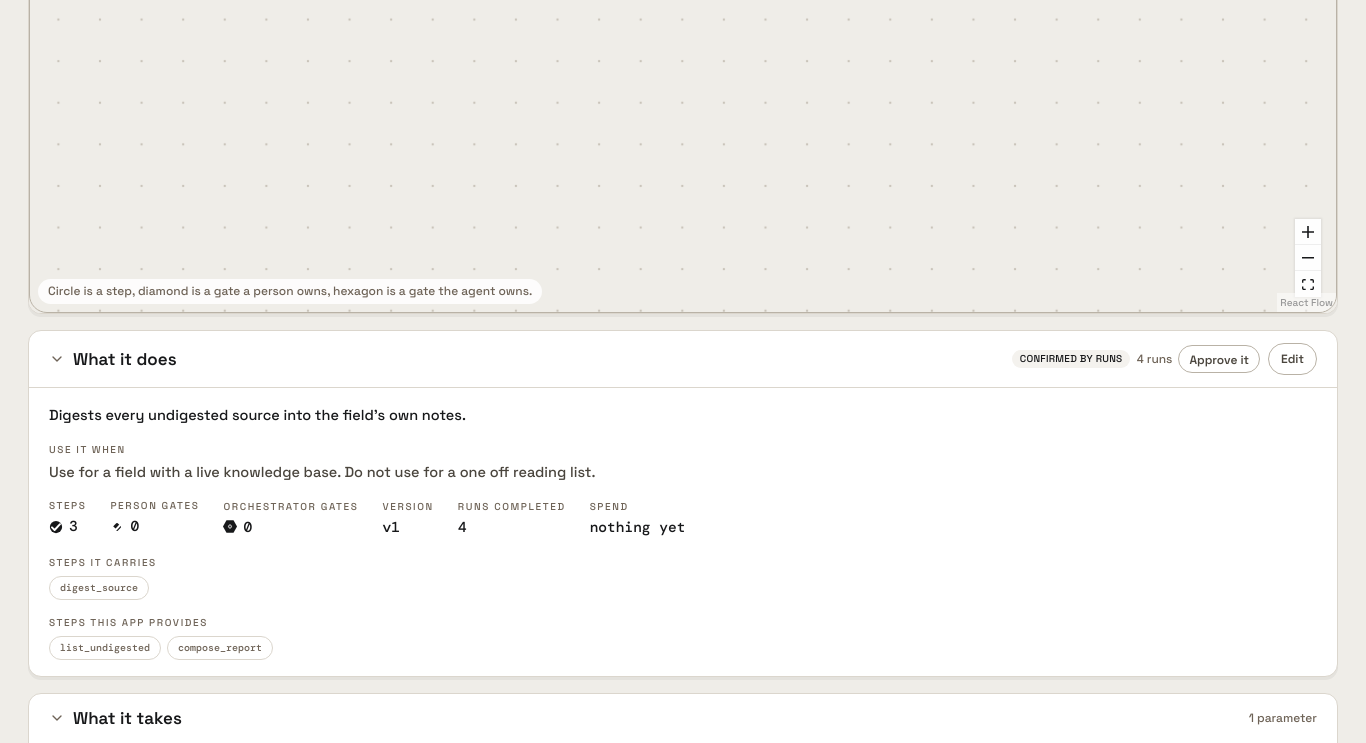
Scenario: WorkflowAbout › edits the card's own words in place through the PATCH route
(page scrolled)
Click the button "Edit".
click(1292, 359)  # box [1268, 343, 1317, 375]
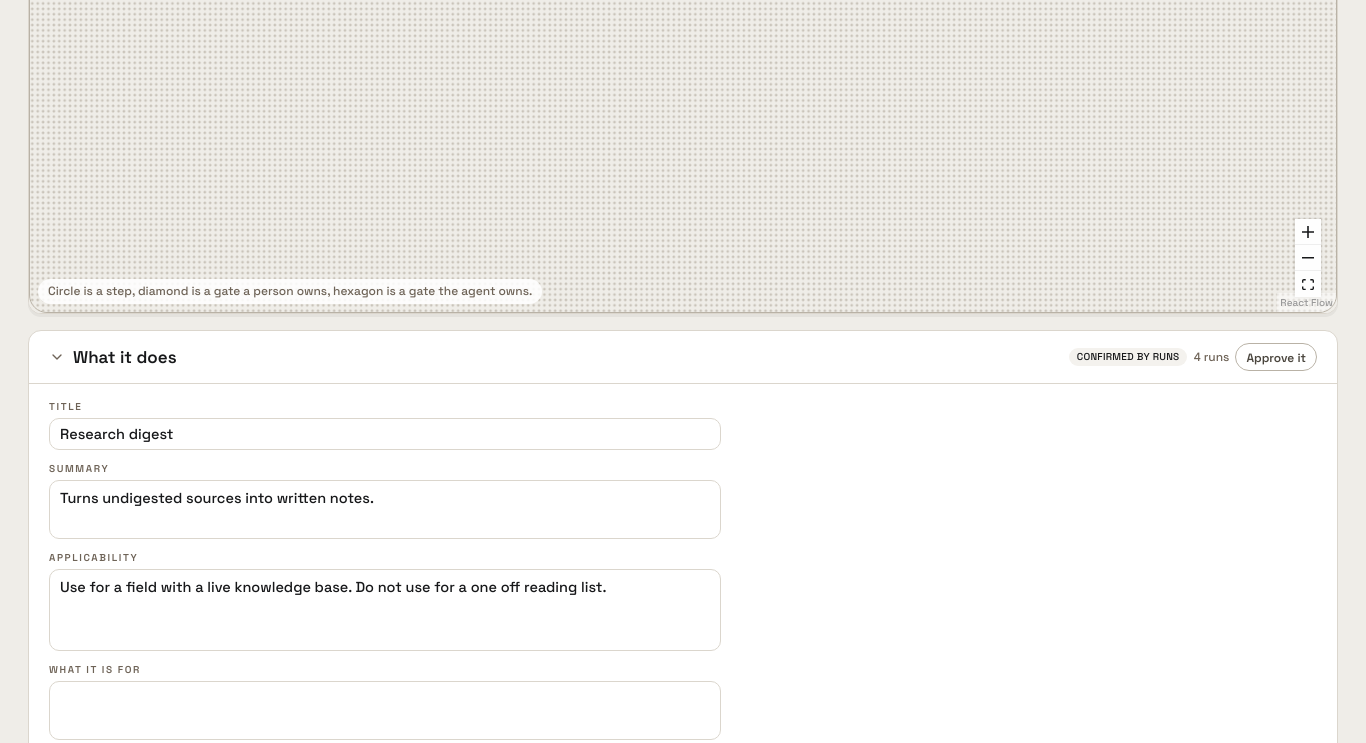
Replace the text in the field named "Title" with "Digest new sources" at (385, 434), box [49, 418, 721, 450]
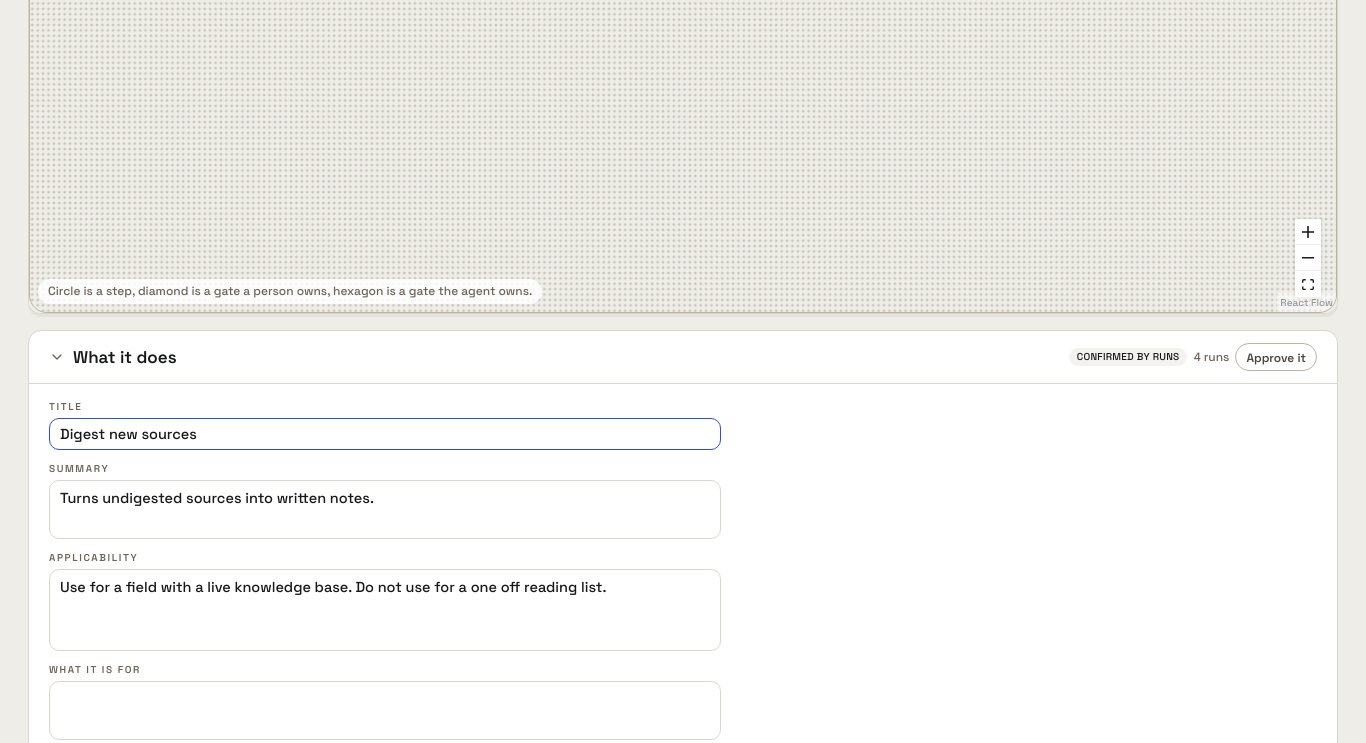
Replace the text in the text box named "Summary" with "Reads every new source and writes a short digest of each." at (385, 510), box [49, 480, 721, 539]
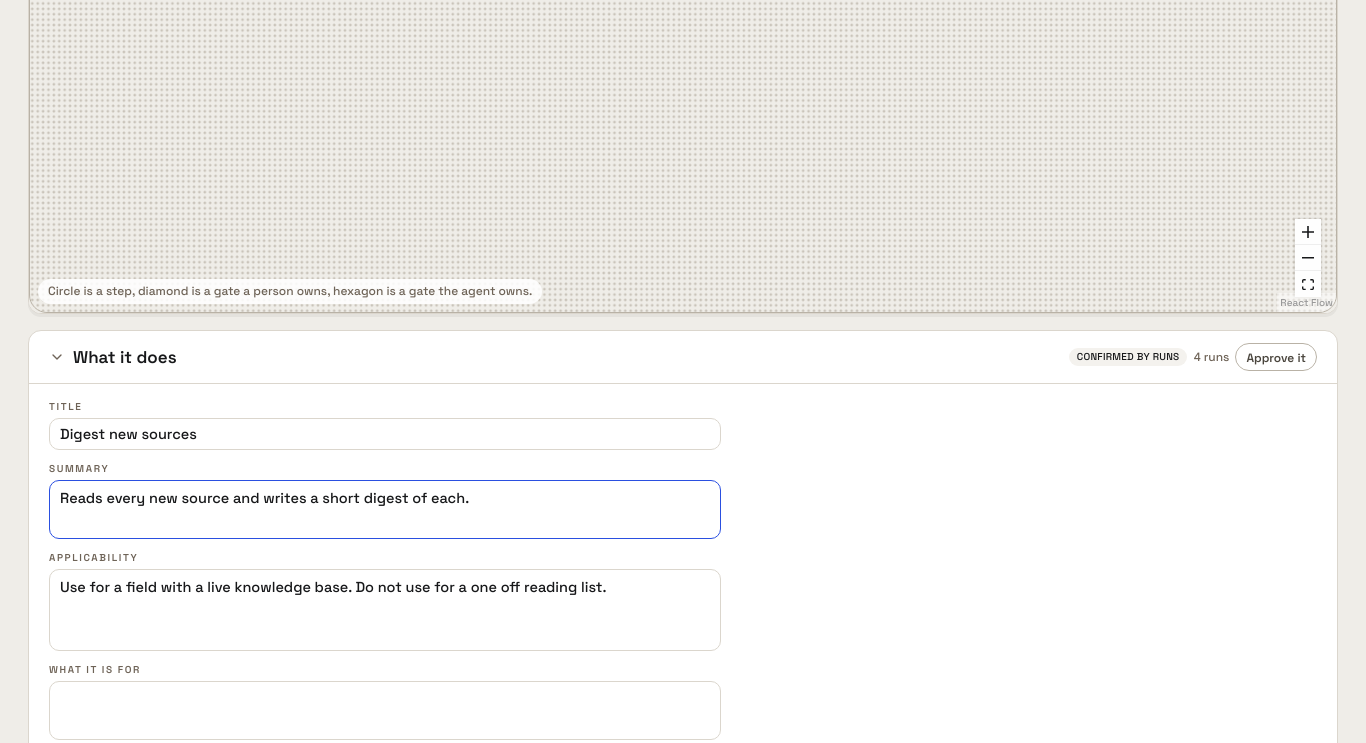
Replace the text in the text box named "Applicability" with "Run it on a schedule, once per knowledge base." at (385, 610), box [49, 569, 721, 651]
(page scrolled)
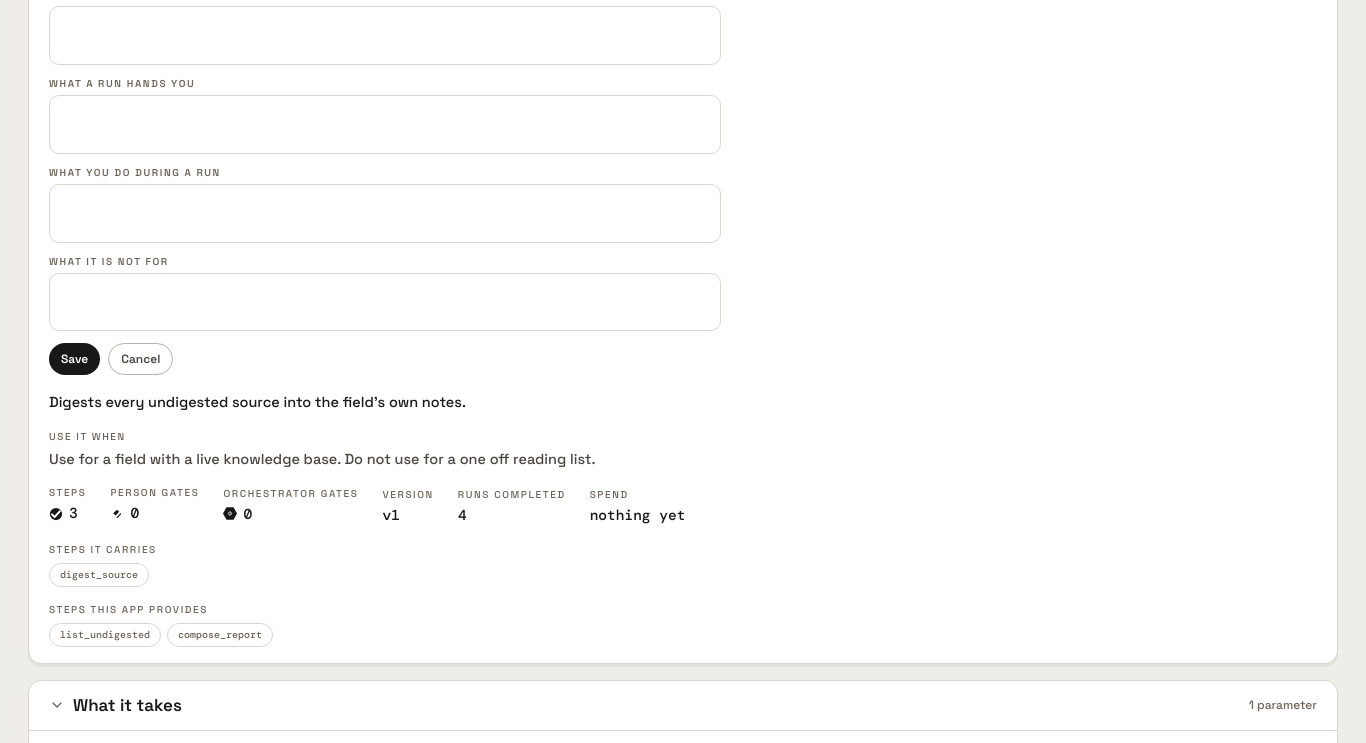
Click the button "Save".
click(75, 360)  # box [49, 344, 100, 376]
(page scrolled)
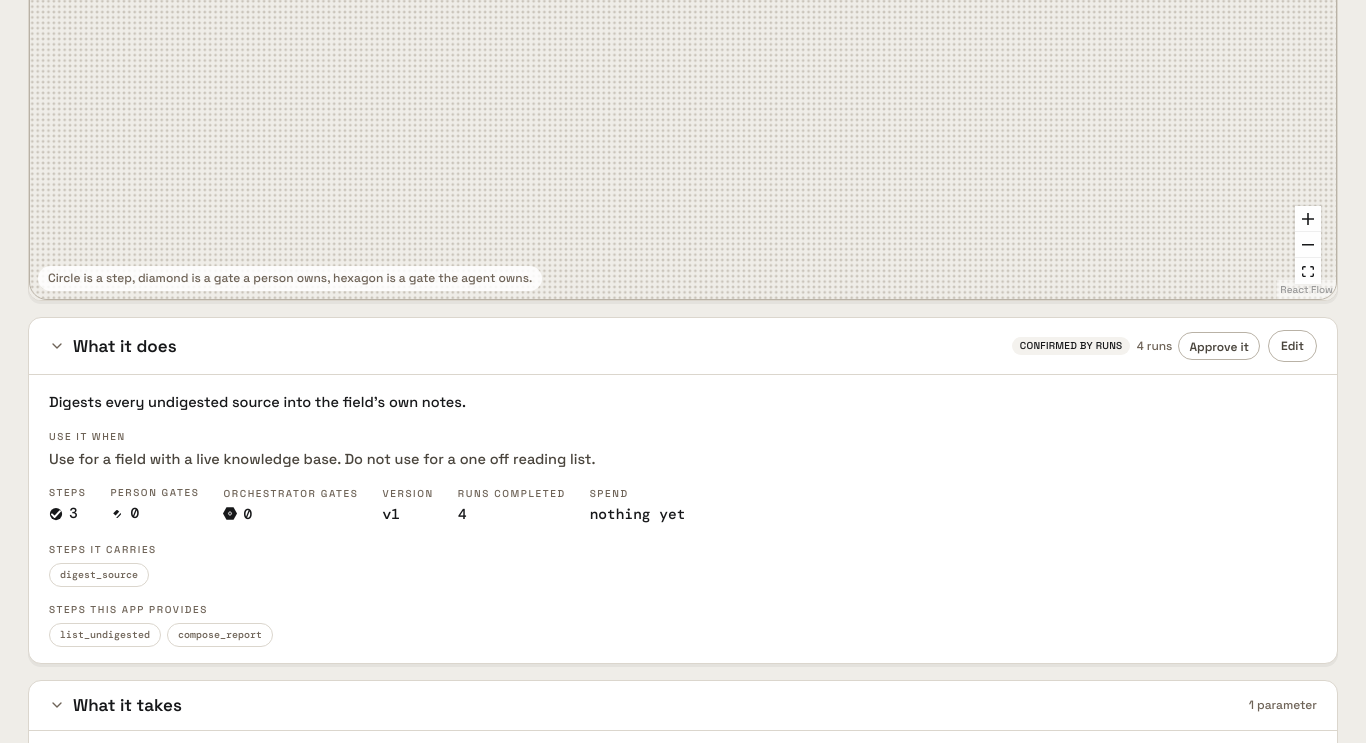
Expected: the button "Save" is gone
Expected: the button "Edit" is shown, [1268, 330, 1317, 362]
